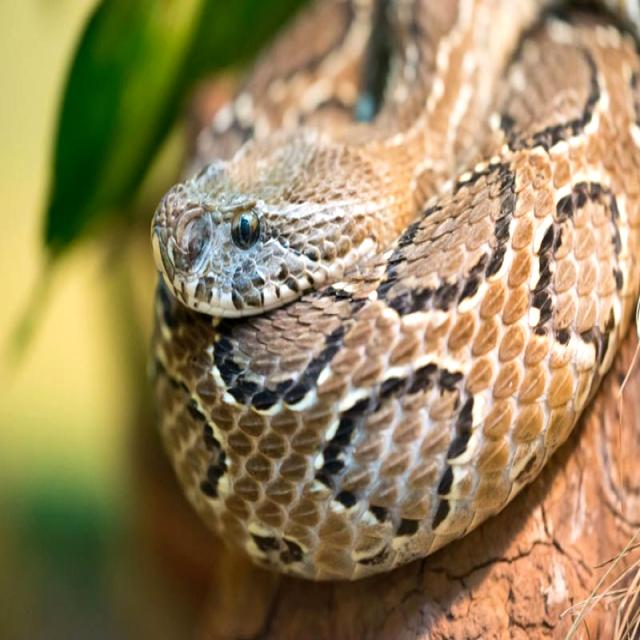Daboia siamensis: (152, 0, 639, 578)
